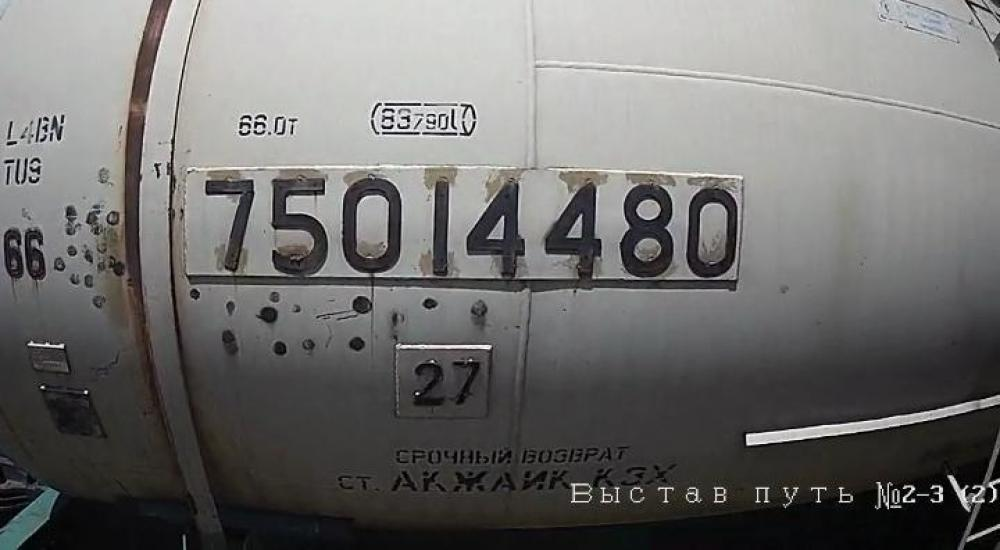Wagon-number: (197, 168, 740, 283)
